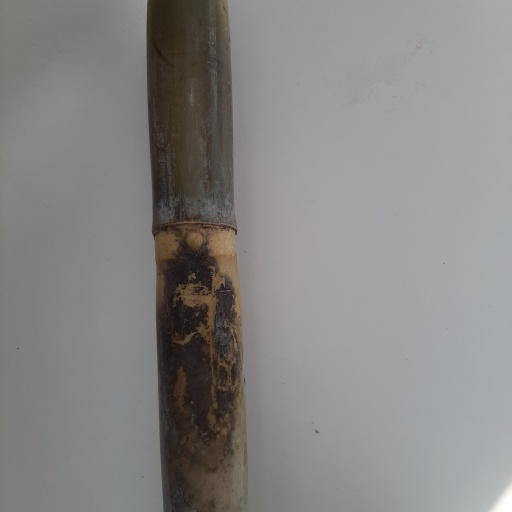Bud: (181, 228, 205, 257)
